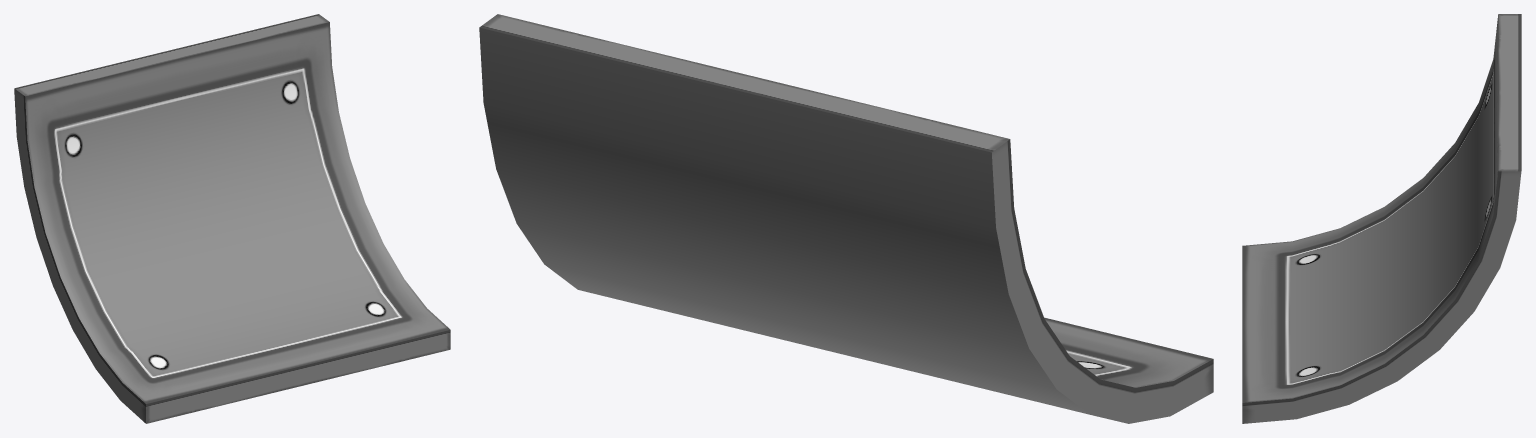
Rendered from space_quarter_circle.gltf.
The picture shows the model from 3 angles, left to right: view 1: azimuth 30°, elevation 25°; view 2: azimuth 150°, elevation 25°; view 3: azimuth 270°, elevation 25°; orthographic projection. The views are drawn at different scales.
Parts seen in each view (by area): view 1: space_quarter_circle_glb; view 2: space_quarter_circle_glb; view 3: space_quarter_circle_glb.
Boxes of the visible parts, left/top/right/bottom form: space_quarter_circle_glb: left=14, top=14, right=450, bottom=423; space_quarter_circle_glb: left=479, top=14, right=1213, bottom=423; space_quarter_circle_glb: left=1242, top=14, right=1521, bottom=423.
Size of what is drawn, in the model's own units: 4 by 3 by 3.
Materials: 1 (1 with a texture image).
